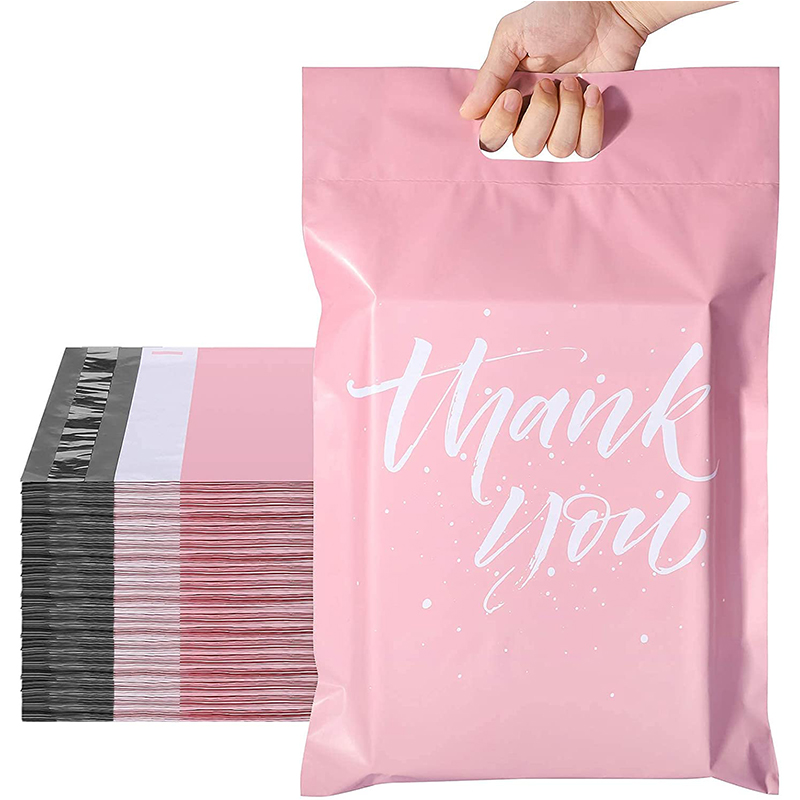Parcel: (301, 68, 778, 795)
